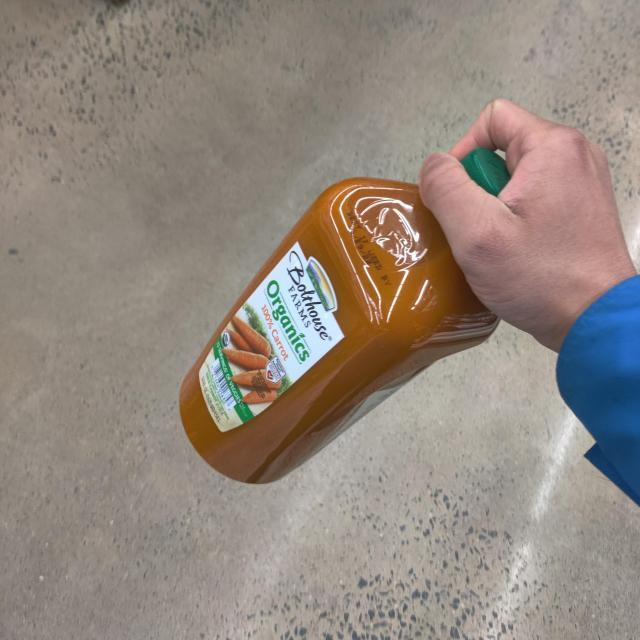Juice: (148, 128, 534, 504)
